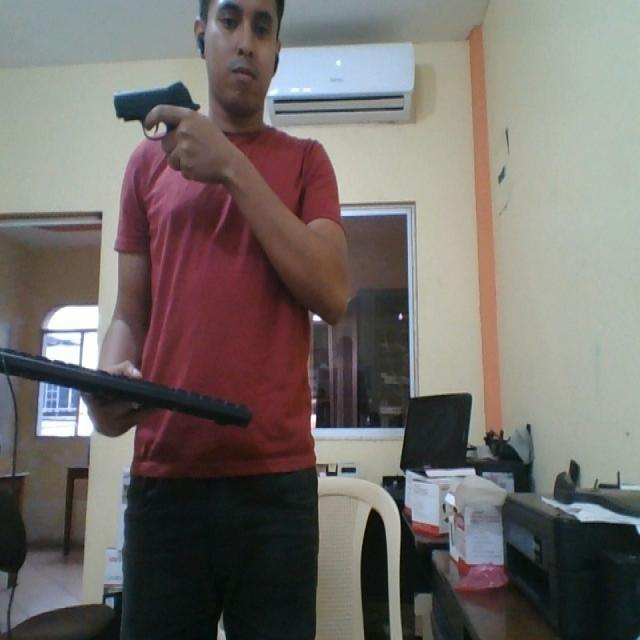weapon: (110, 76, 204, 146)
